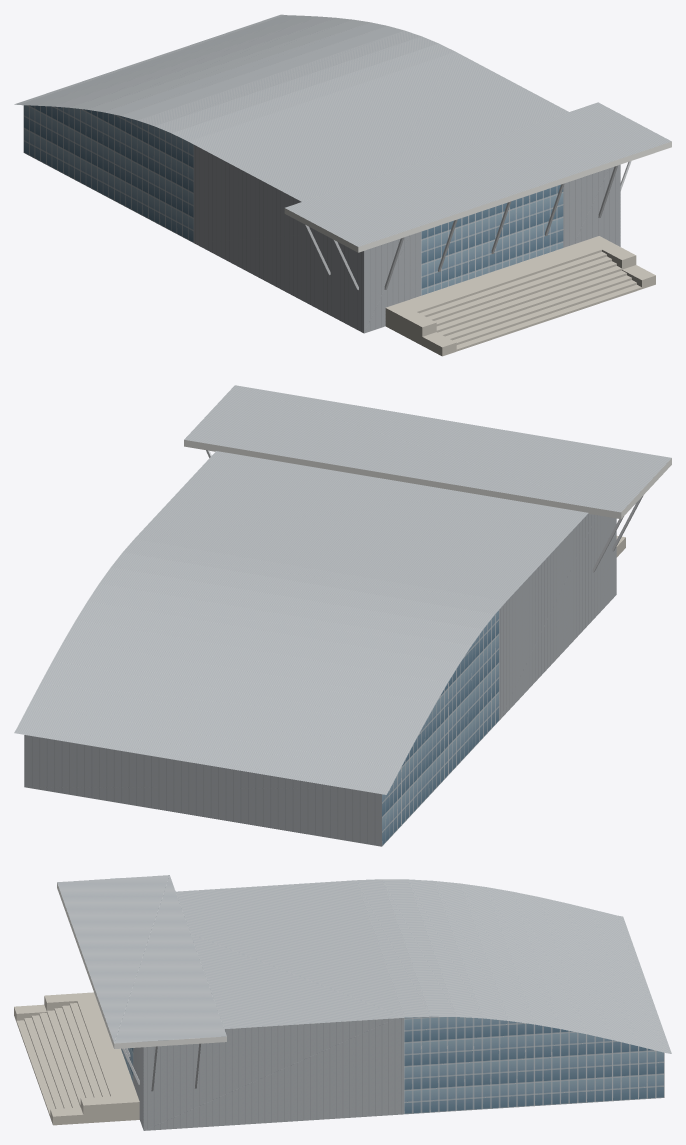
Rendered from dongyuan_tiyuguan.glb.
3 views of the same model, one above another, from view 1: azimuth 30°, elevation 25°; view 2: azimuth 150°, elevation 25°; view 3: azimuth 270°, elevation 25° (orthographic). The views are drawn at different scales.
Visible parts, largest first — view 1: 东苑体育馆; view 2: 东苑体育馆; view 3: 东苑体育馆.
Part boxes in pixels (box(x1,y1,x2,y2)): 东苑体育馆: box(14, 14, 671, 356); 东苑体育馆: box(14, 385, 671, 846); 东苑体育馆: box(14, 875, 671, 1130).
Bounding box in the file's own units: 99.79 × 26.2 × 150.
Materials: 6 (3 with a texture image).
